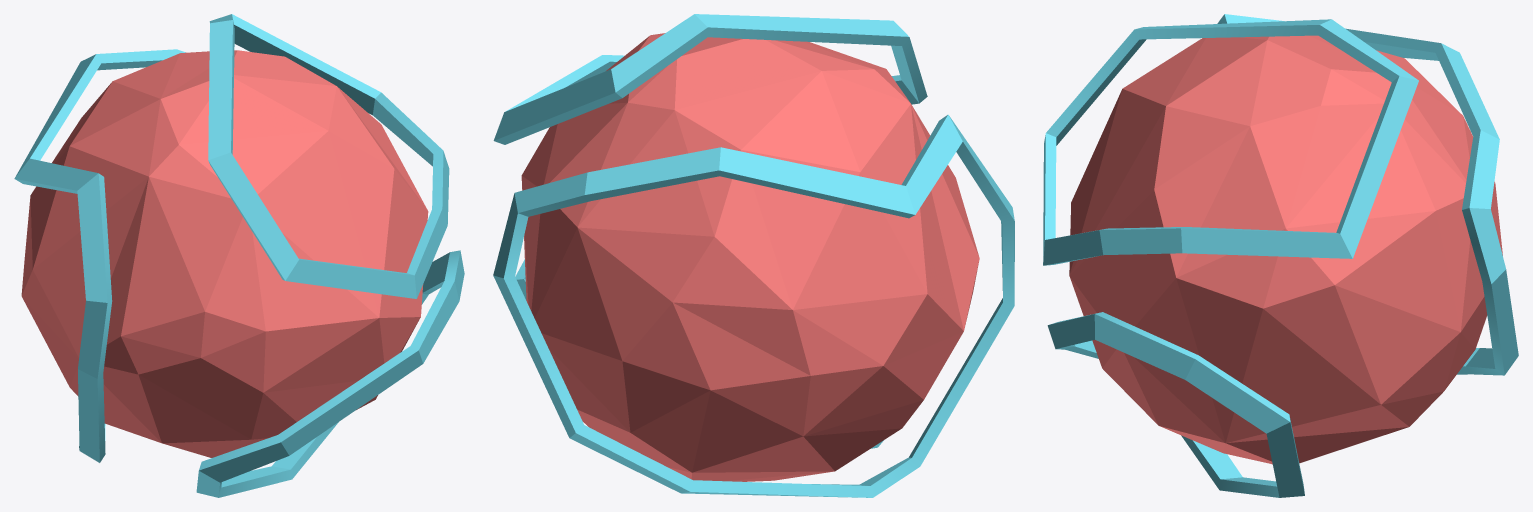
File: Planet_10_b.fbx
The picture shows the model from 3 angles, left to right: view 1: azimuth 30°, elevation 25°; view 2: azimuth 150°, elevation 25°; view 3: azimuth 270°, elevation 25°; orthographic projection. The views are drawn at different scales.
Parts seen in each view (by area): view 1: Planet_020; view 2: Planet_020; view 3: Planet_020.
Part boxes in pixels (bbox=[...]): Planet_020: bbox=[14, 14, 464, 497]; Planet_020: bbox=[493, 14, 1014, 497]; Planet_020: bbox=[1043, 14, 1518, 497].
Size of the model in its own units: 83.33 by 87.62 by 81.87.
